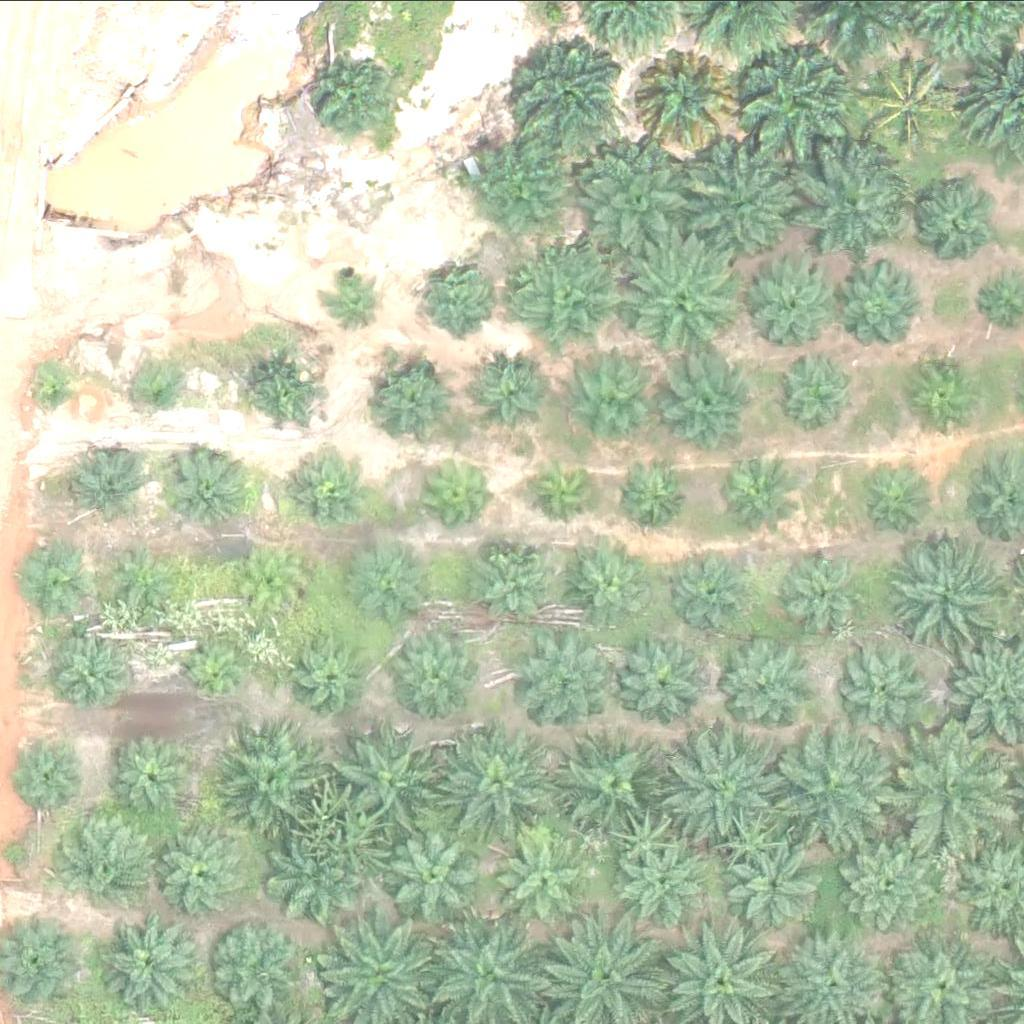Kelapa_Sawit: (615, 235, 741, 360), (888, 531, 1014, 656), (500, 32, 626, 157), (734, 38, 860, 163), (681, 135, 807, 260), (787, 138, 913, 263), (580, 143, 705, 268), (848, 49, 962, 162), (447, 722, 560, 835), (781, 737, 894, 850), (901, 733, 1014, 846), (629, 42, 742, 155), (666, 731, 780, 843), (463, 131, 577, 243), (515, 241, 628, 353), (740, 246, 841, 346), (346, 726, 447, 826), (558, 735, 659, 835), (571, 354, 671, 454), (223, 732, 323, 832), (837, 839, 937, 939), (59, 810, 159, 910), (92, 915, 192, 1015), (376, 352, 464, 440), (834, 260, 922, 348), (569, 540, 657, 628), (786, 543, 874, 631), (526, 634, 614, 722), (615, 637, 703, 725), (843, 640, 931, 728), (738, 837, 826, 925), (393, 827, 481, 915), (209, 921, 297, 1009), (395, 629, 484, 716), (159, 825, 248, 912), (473, 349, 561, 436), (315, 51, 403, 138), (661, 358, 749, 445), (477, 542, 565, 629), (671, 550, 759, 637), (726, 644, 814, 731), (614, 841, 702, 928), (499, 836, 587, 923), (266, 837, 354, 924), (48, 626, 136, 713), (105, 731, 193, 818), (914, 181, 1002, 268), (70, 448, 146, 523), (15, 738, 91, 813), (251, 357, 327, 432), (726, 454, 802, 529), (615, 459, 691, 534), (527, 453, 603, 528), (414, 255, 490, 330), (167, 448, 243, 523), (294, 640, 369, 715), (358, 543, 433, 618), (285, 456, 360, 531), (418, 450, 493, 525), (862, 457, 937, 532), (902, 357, 977, 432), (782, 348, 857, 423), (20, 547, 83, 610), (242, 551, 305, 614), (116, 542, 179, 604), (323, 263, 386, 325), (182, 643, 244, 705), (31, 363, 81, 413), (138, 367, 188, 417)
